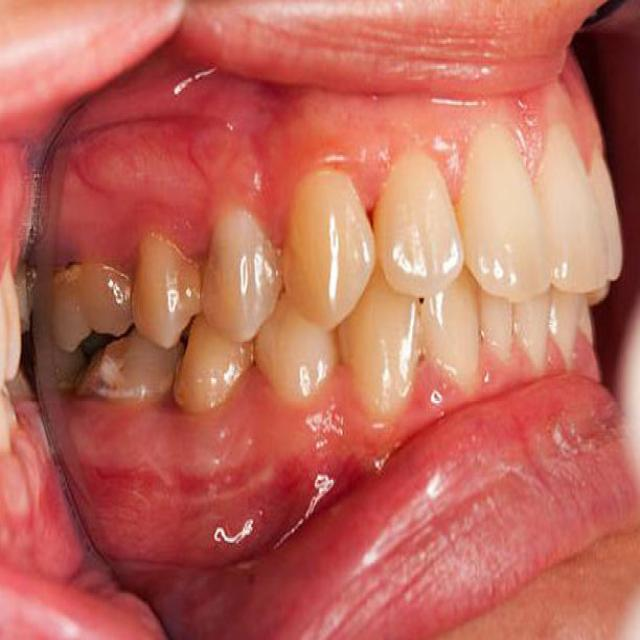caries: (65, 345, 114, 400)
